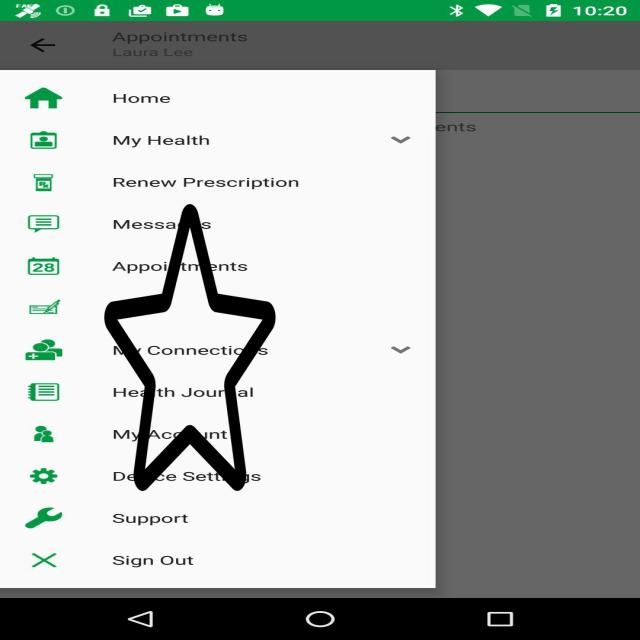forced continuity: (104, 198, 276, 497)
